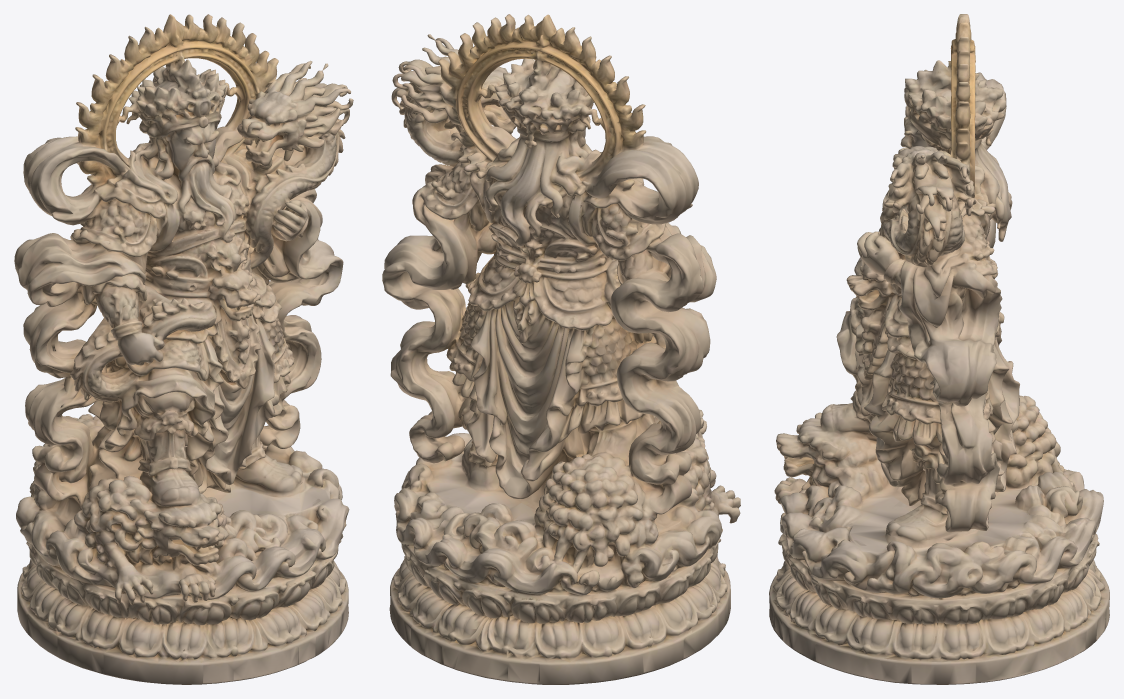
3 views of the same model, side by side, from view 1: azimuth 30°, elevation 25°; view 2: azimuth 150°, elevation 25°; view 3: azimuth 270°, elevation 25° (orthographic). The views are drawn at different scales.
Visible parts, largest first — view 1: four-heavenly-kings-04; view 2: four-heavenly-kings-04; view 3: four-heavenly-kings-04.
Part boxes in pixels (bbox=[...]): four-heavenly-kings-04: bbox=[14, 14, 353, 684]; four-heavenly-kings-04: bbox=[382, 14, 740, 684]; four-heavenly-kings-04: bbox=[769, 14, 1109, 684].
Size of the model in its own units: 0.562 by 1 by 0.519.
1 material, 1 textured.
